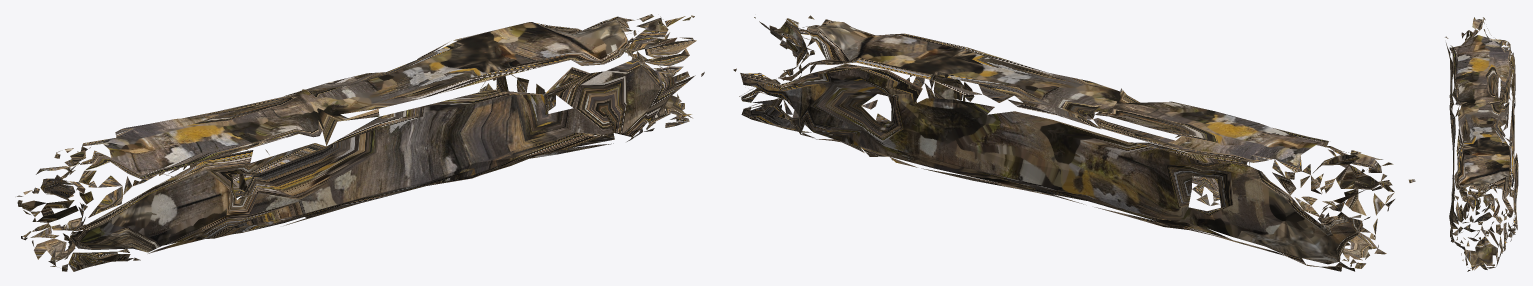
File: church-roof-beam.glb
3 views of the same model, side by side, from view 1: azimuth 30°, elevation 25°; view 2: azimuth 150°, elevation 25°; view 3: azimuth 270°, elevation 25° (orthographic). The views are drawn at different scales.
Visible parts, largest first — view 1: mesh; view 2: mesh; view 3: mesh.
Part boxes in pixels (left/top/right/bottom): mesh: left=17, top=14, right=704, bottom=271; mesh: left=733, top=15, right=1415, bottom=271; mesh: left=1445, top=17, right=1518, bottom=271.
Bounding box in the file's own units: 1.98 × 0.3384 × 0.3163.
Materials: 1 (1 with a texture image).
